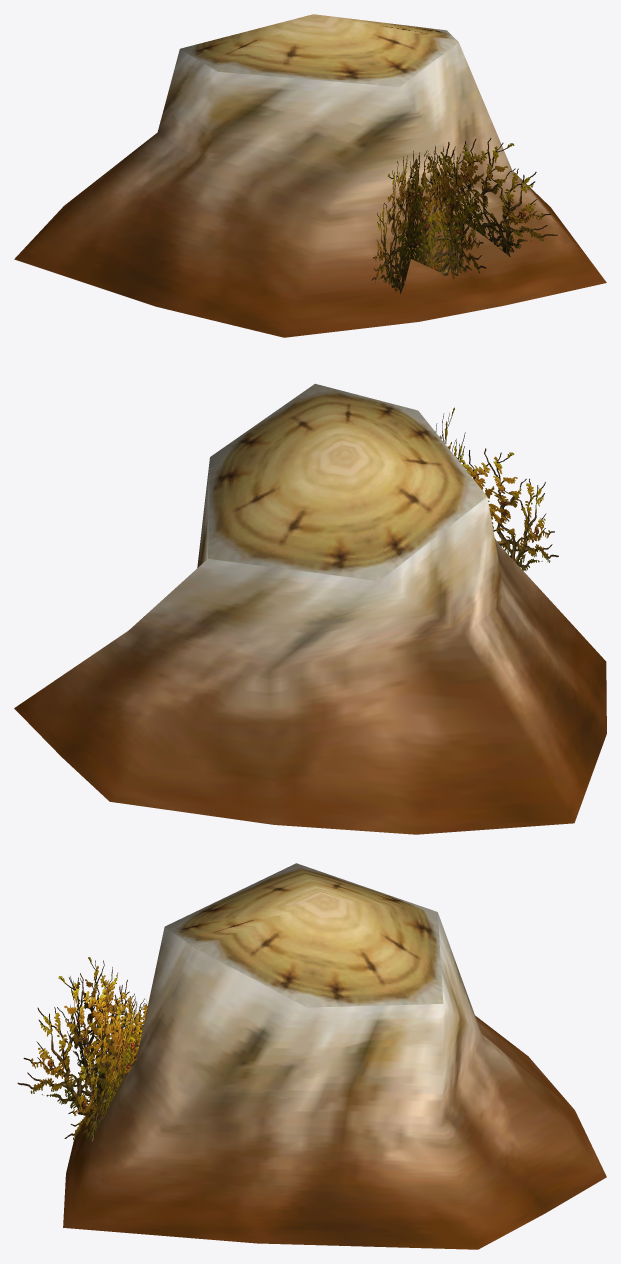
File: redridgestump02.obj
3 renders of one model, top to bottom at view 1: azimuth 30°, elevation 25°; view 2: azimuth 150°, elevation 25°; view 3: azimuth 270°, elevation 25°, orthographic. The views are drawn at different scales.
Parts seen in each view (by area): view 1: Geoset0, Geoset1; view 2: Geoset0, Geoset1; view 3: Geoset0, Geoset1.
Boxes of the visible parts, bbox=[...] form: Geoset0: bbox=[14, 14, 606, 337]; Geoset1: bbox=[371, 138, 557, 293]; Geoset0: bbox=[14, 383, 606, 834]; Geoset1: bbox=[435, 407, 558, 570]; Geoset0: bbox=[63, 863, 606, 1249]; Geoset1: bbox=[17, 957, 147, 1143].
Size of the model in its own units: 4.7 by 2.16 by 4.82.
Materials: 2 (2 with a texture image).
